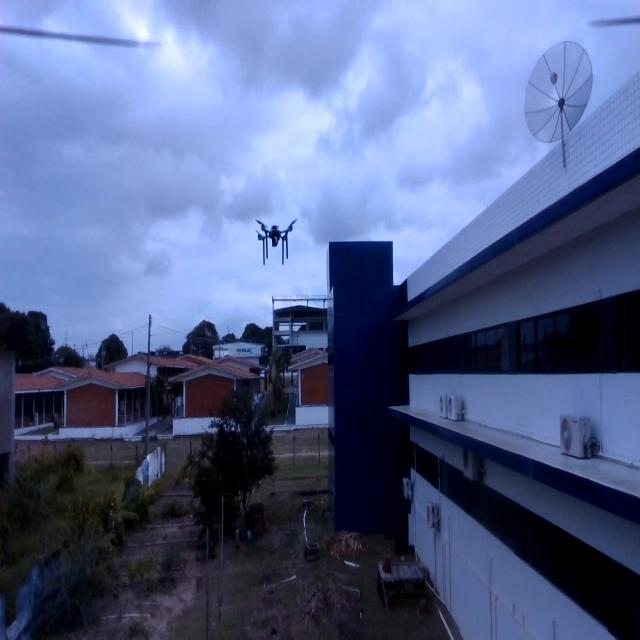-uav-: (248, 206, 304, 273)
